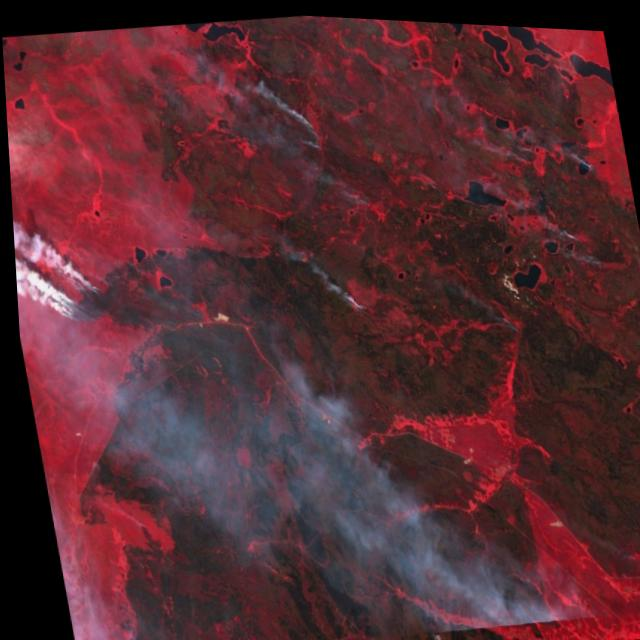fire: (29, 259, 114, 342), (546, 205, 606, 273), (286, 90, 332, 167), (334, 278, 392, 335), (559, 121, 605, 182)
